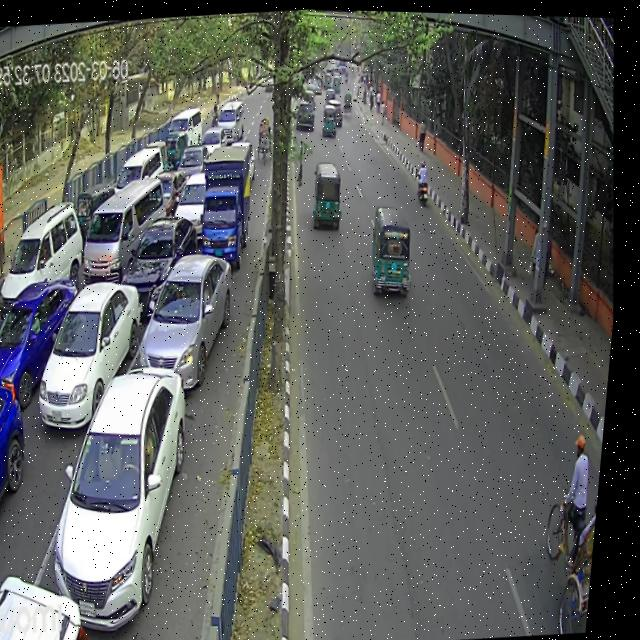cng: (367, 197, 424, 302), (312, 154, 348, 232), (164, 125, 195, 171), (320, 99, 343, 133)
rikshaw: (543, 413, 612, 631)
